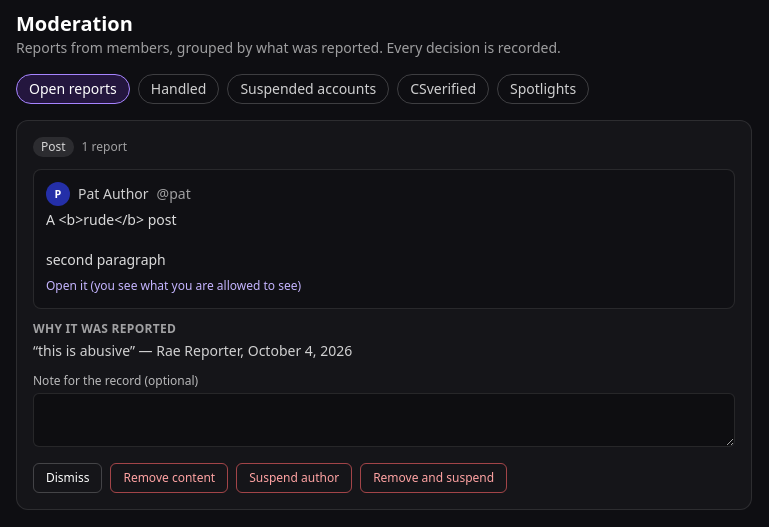
it: ModerationPage: open reports › dismisses with the note, and the case leaves the list
In the text box labelled "Note for the record (optional)": point(384, 420) [33,393,735,447], type "looks fine to me"
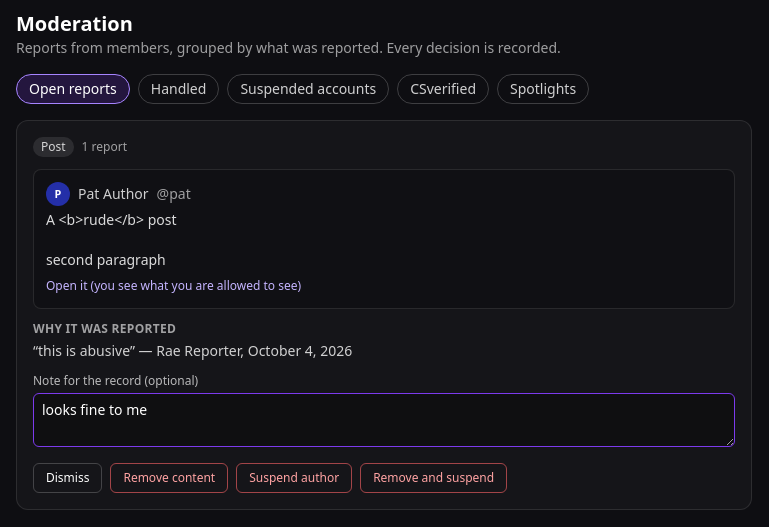
Click the button "Dismiss": point(68, 478) [33,463,102,493]
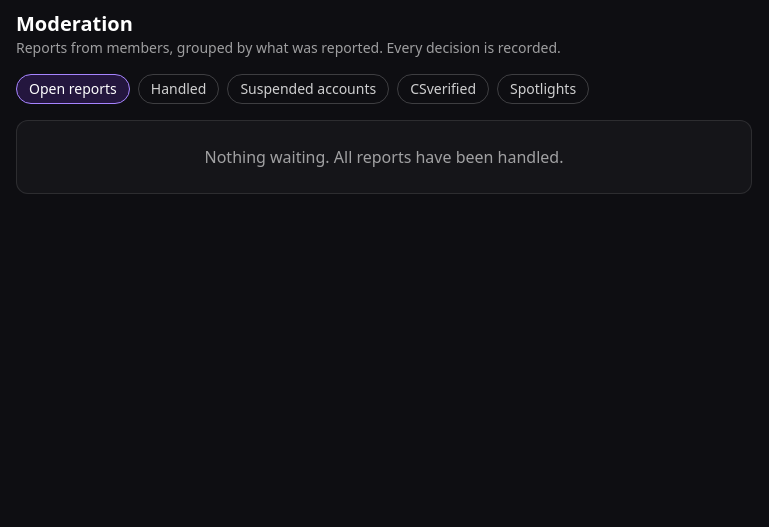
Expected: the text "this is abusive" is gone
Expected: the text "Nothing waiting. All reports have been handled." is shown, [16,120,752,194]
